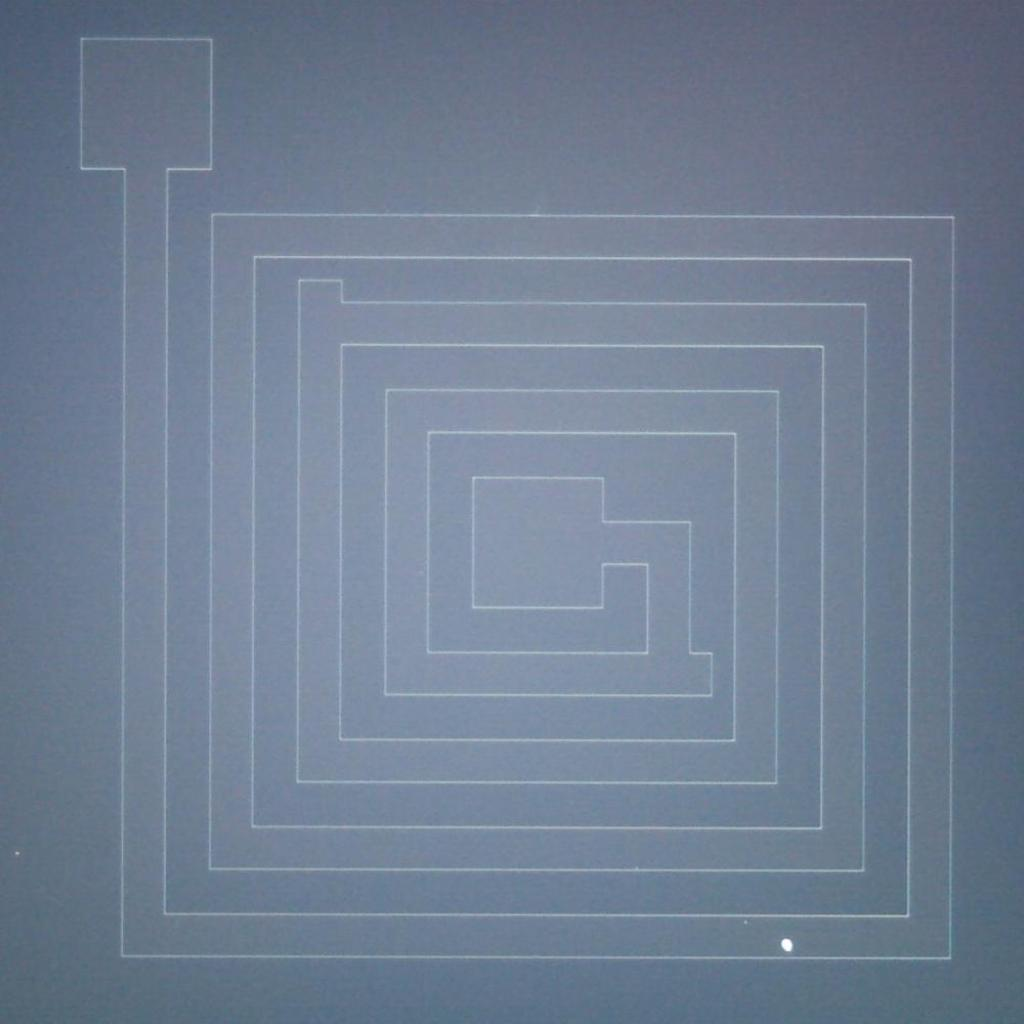dot: (780, 938, 794, 951), (743, 920, 748, 924), (16, 851, 20, 855)
